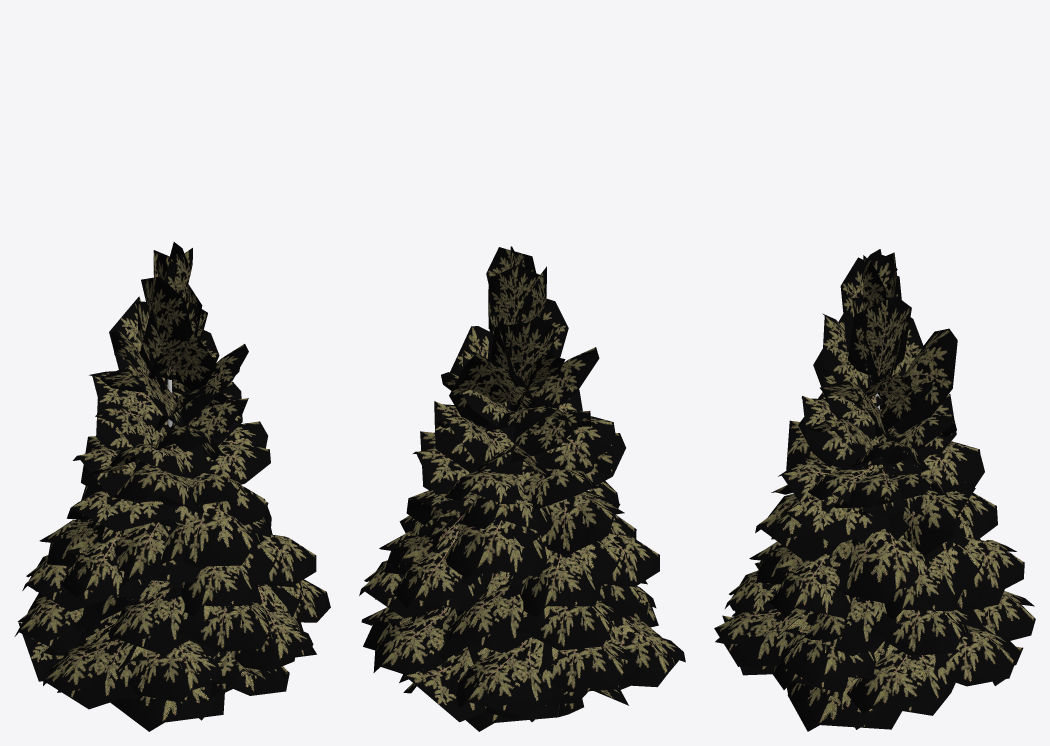
The model's file is Spruce_Tree.fbx.
3 views of the same model, side by side, from view 1: azimuth 30°, elevation 25°; view 2: azimuth 150°, elevation 25°; view 3: azimuth 270°, elevation 25° (orthographic).
Parts seen in each view (by area): view 1: Spruce_Tree; view 2: Spruce_Tree; view 3: Spruce_Tree.
Part boxes in pixels (x1=…): Spruce_Tree: x1=14, y1=242, x2=330, y2=731; Spruce_Tree: x1=359, y1=246, x2=685, y2=731; Spruce_Tree: x1=714, y1=249, x2=1035, y2=731.
Size of the model in its own units: 5.86 by 13.58 by 5.79.
